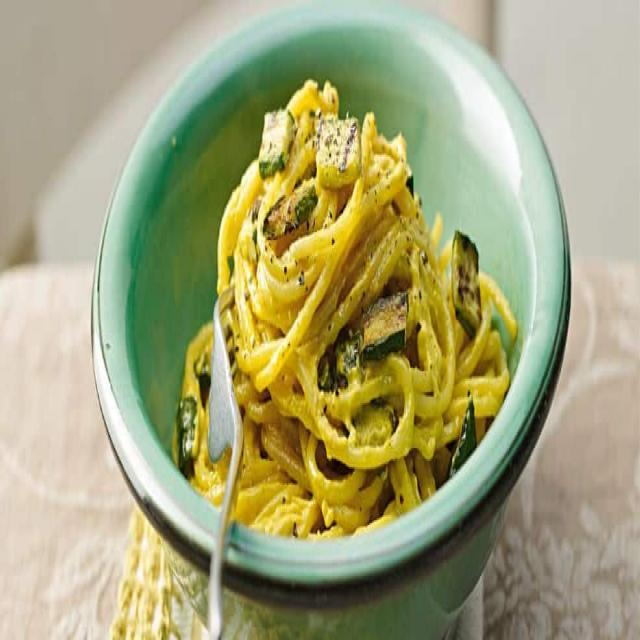Pasta with carbonara sauce: (160, 52, 554, 575)
